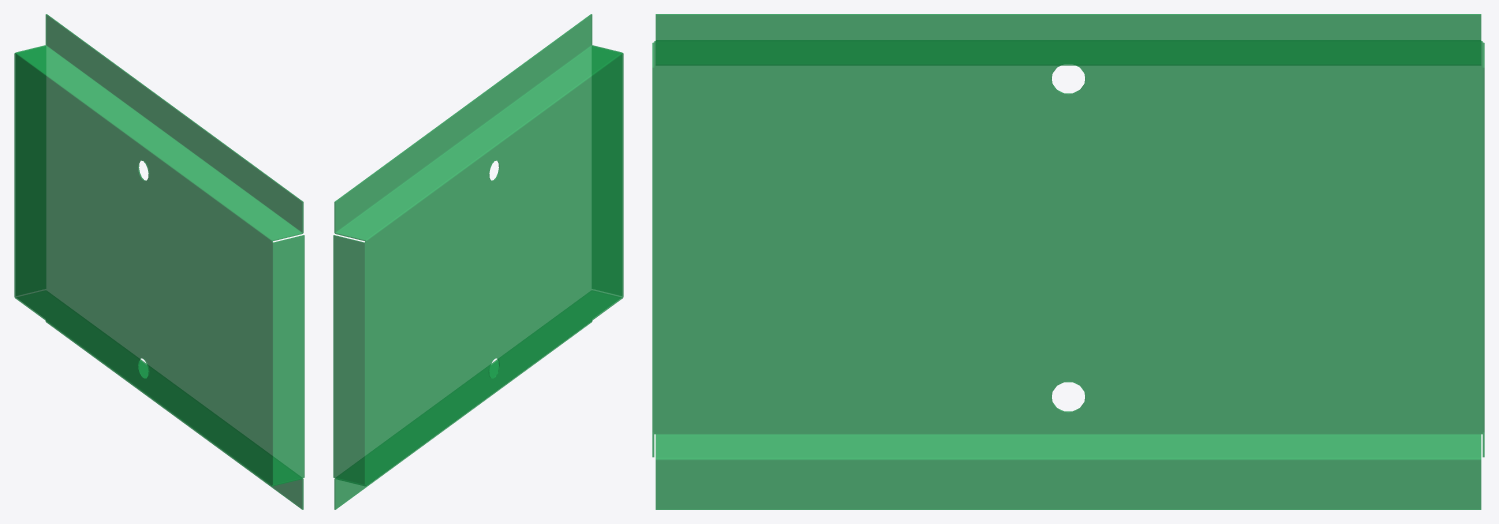
The model's file is converted_Downdraft_Assy_16_10ab4a85.obj.
3 views of the same model, side by side, from view 1: azimuth 30°, elevation 25°; view 2: azimuth 150°, elevation 25°; view 3: azimuth 270°, elevation 25° (orthographic). The views are drawn at different scales.
Bounding box in the file's own units: 0.0435 × 0.4 × 0.6096.
